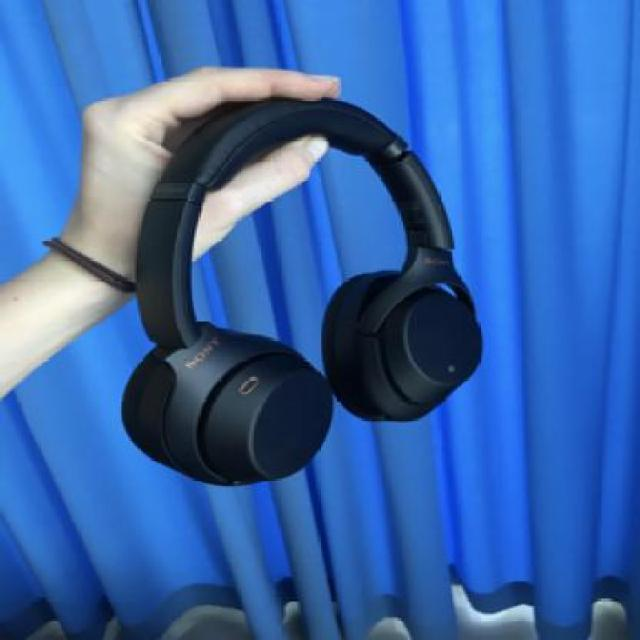earphone: (107, 60, 488, 530)
